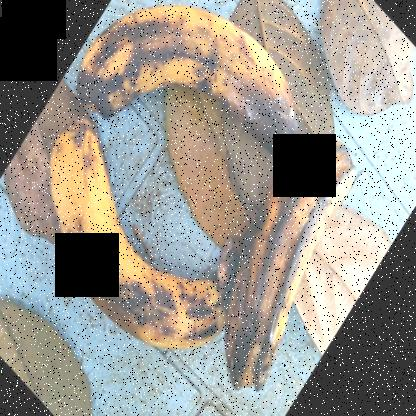overripe: (48, 137, 231, 366)
rotten: (222, 128, 386, 400), (82, 6, 303, 164)
